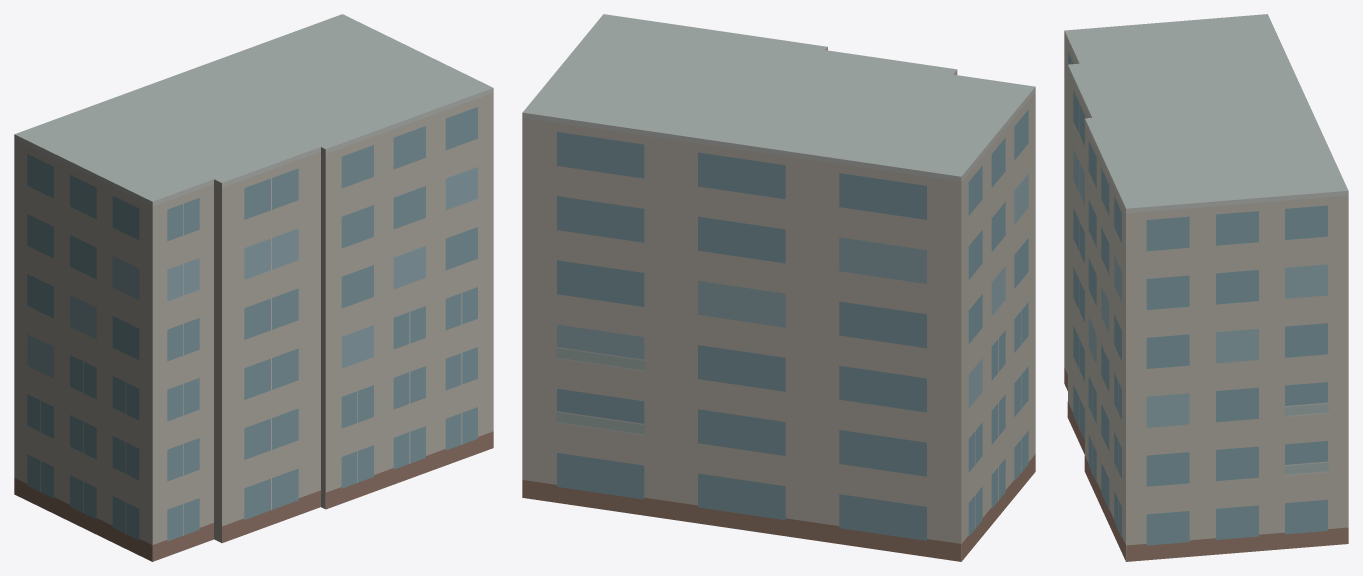
Rendered from survey-upis-33046322.glb.
The picture shows the model from 3 angles, left to right: view 1: azimuth 30°, elevation 25°; view 2: azimuth 150°, elevation 25°; view 3: azimuth 270°, elevation 25°; orthographic projection. The views are drawn at different scales.
Visible parts, largest first — view 1: survey-upis-33046322.tmp; view 2: survey-upis-33046322.tmp; view 3: survey-upis-33046322.tmp.
Part boxes in pixels (x1,y1,x2,y2): survey-upis-33046322.tmp: (14, 14, 493, 561); survey-upis-33046322.tmp: (522, 14, 1035, 561); survey-upis-33046322.tmp: (1064, 14, 1348, 561).
Bounding box in the file's own units: 21.65 × 18.3 × 13.35.
